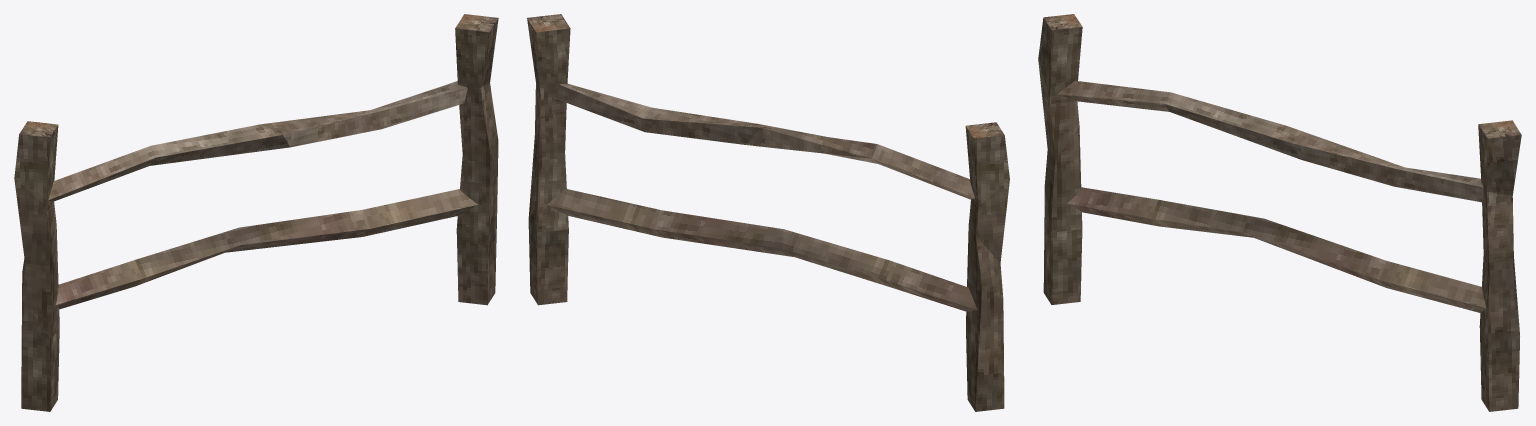
File: wooden_fence_closed.glb
3 renders of one model, left to right at view 1: azimuth 30°, elevation 25°; view 2: azimuth 150°, elevation 25°; view 3: azimuth 330°, elevation 25°, orthographic.
Visible parts, largest first — view 1: wooden_fence_closed; view 2: wooden_fence_closed; view 3: wooden_fence_closed.
Boxes of the visible parts, x1,y1,x2,y2 form: wooden_fence_closed: [14, 14, 498, 411]; wooden_fence_closed: [527, 14, 1009, 411]; wooden_fence_closed: [1038, 14, 1521, 411].
Bounding box in the file's own units: 2.21 × 1.2 × 0.1991.
1 material, 1 textured.
